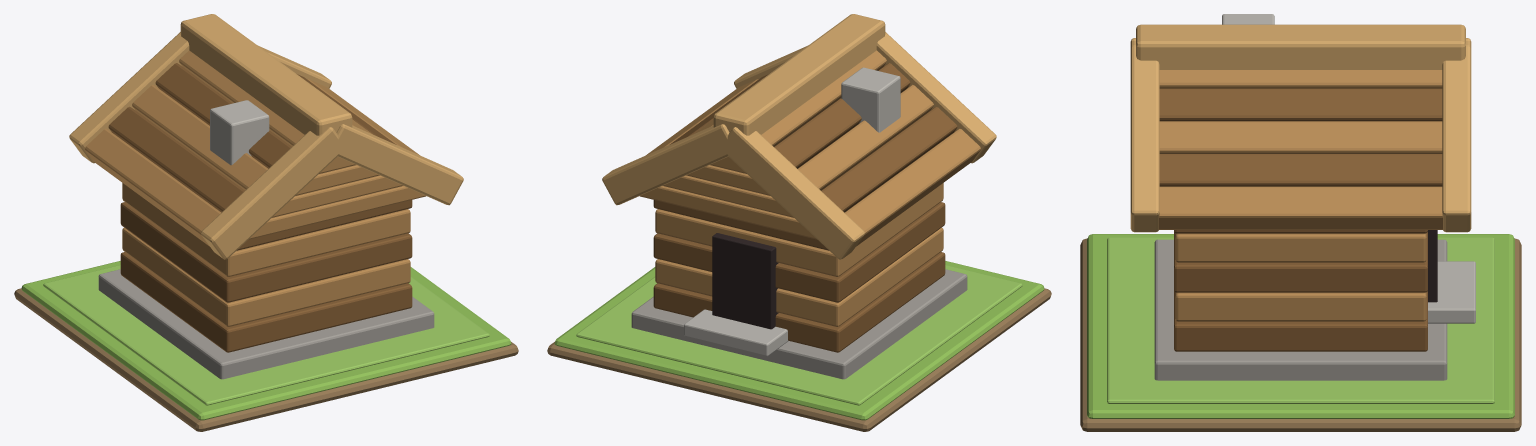
Rendered from builders_hut.glb.
3 renders of one model, left to right at view 1: azimuth 30°, elevation 25°; view 2: azimuth 150°, elevation 25°; view 3: azimuth 270°, elevation 25°, orthographic. The views are drawn at different scales.
Parts seen in each view (by area): view 1: Base_Inner, HutFoundation, Base_Grass, RidgeBeam, WallPlank_0, WallPlank_2, WallPlank_1, WallPlank_3, Base_Dirt, Bargeboard_-1_-1, RoofSlope_-1_4, RoofSlope_-1_3 (+12 smaller); view 2: Base_Inner, Base_Grass, RidgeBeam, HutFoundation, Base_Dirt, Bargeboard_1_-1, WallPlank_2, WallPlank_0, WallPlank_1, WallPlank_3, HutDoorDark, RoofSlope_-1_4 (+14 smaller); view 3: Base_Inner, RidgeBeam, Base_Grass, RoofSlope_1_4, HutFoundation, RoofSlope_1_1, RoofSlope_1_2, RoofSlope_1_3, Base_Dirt, WallPlank_0, WallPlank_2, WallPlank_1 (+8 smaller).
Part boxes in pixels (x1,y1,x2,y2): Base_Inner: [43, 265, 489, 405]; HutFoundation: [98, 269, 434, 379]; Base_Grass: [21, 261, 511, 420]; RidgeBeam: [180, 14, 352, 135]; WallPlank_0: [120, 252, 412, 352]; WallPlank_2: [120, 202, 412, 302]; WallPlank_1: [122, 227, 410, 326]; WallPlank_3: [122, 183, 410, 276]; Base_Dirt: [14, 288, 518, 431]; Bargeboard_-1_-1: [201, 127, 343, 259]; RoofSlope_-1_4: [85, 128, 221, 246]; RoofSlope_-1_3: [108, 106, 244, 212]; Base_Inner: [576, 265, 1022, 405]; Base_Grass: [554, 261, 1044, 420]; RidgeBeam: [713, 14, 885, 135]; HutFoundation: [631, 269, 967, 379]; Base_Dirt: [547, 288, 1051, 431]; Bargeboard_1_-1: [721, 127, 864, 259]; WallPlank_2: [653, 202, 945, 302]; WallPlank_0: [653, 252, 945, 352]; WallPlank_1: [655, 227, 943, 326]; WallPlank_3: [655, 183, 943, 276]; HutDoorDark: [712, 233, 778, 329]; RoofSlope_-1_4: [844, 128, 980, 246]; Base_Inner: [1107, 237, 1494, 403]; RidgeBeam: [1136, 24, 1465, 69]; Base_Grass: [1087, 234, 1514, 418]; RoofSlope_1_4: [1159, 186, 1442, 229]; HutFoundation: [1154, 239, 1447, 380]; RoofSlope_1_1: [1159, 88, 1442, 121]; RoofSlope_1_2: [1159, 121, 1442, 153]; RoofSlope_1_3: [1159, 154, 1442, 186]; Base_Dirt: [1080, 238, 1521, 431]; WallPlank_0: [1174, 290, 1427, 351]; WallPlank_2: [1174, 231, 1427, 292]; WallPlank_1: [1175, 292, 1426, 321].
Size of the model in its own units: 1.84 by 1.42 by 1.84.
